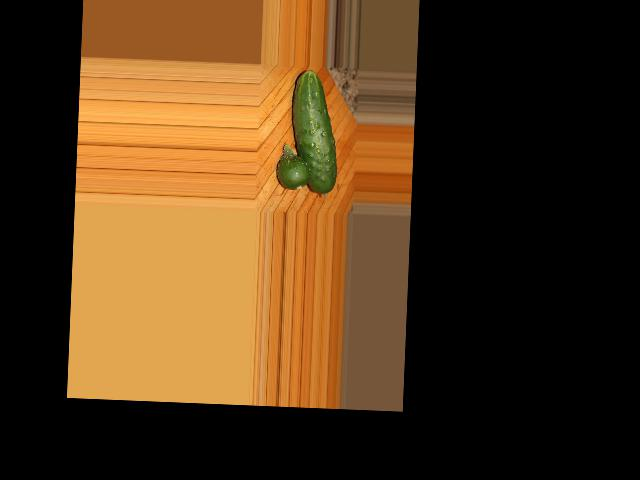cucumber: (288, 69, 340, 194)
